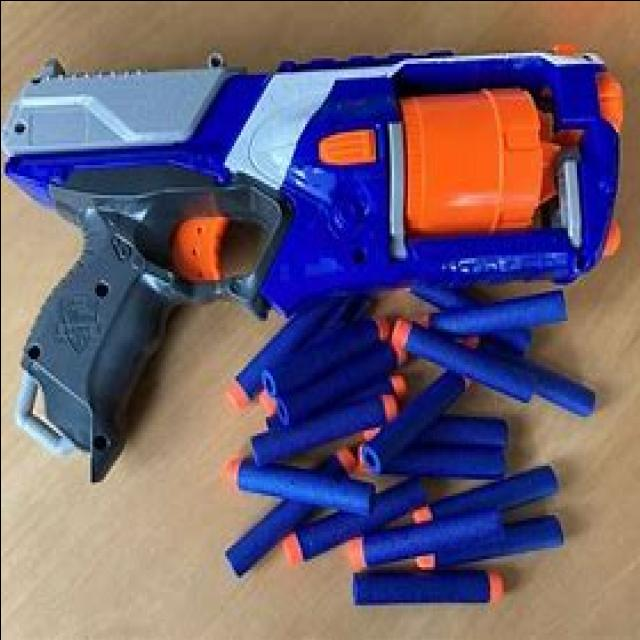nerf-maverik: (2, 40, 622, 496)
